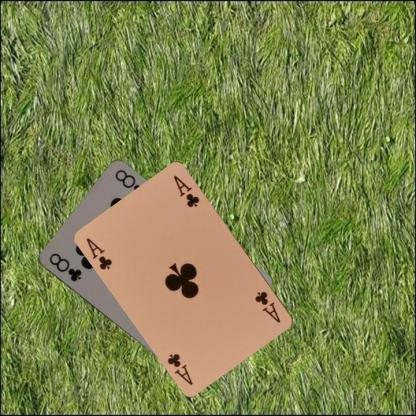8c: (46, 250, 83, 283)
Ac: (84, 235, 114, 272), (252, 288, 282, 324)
